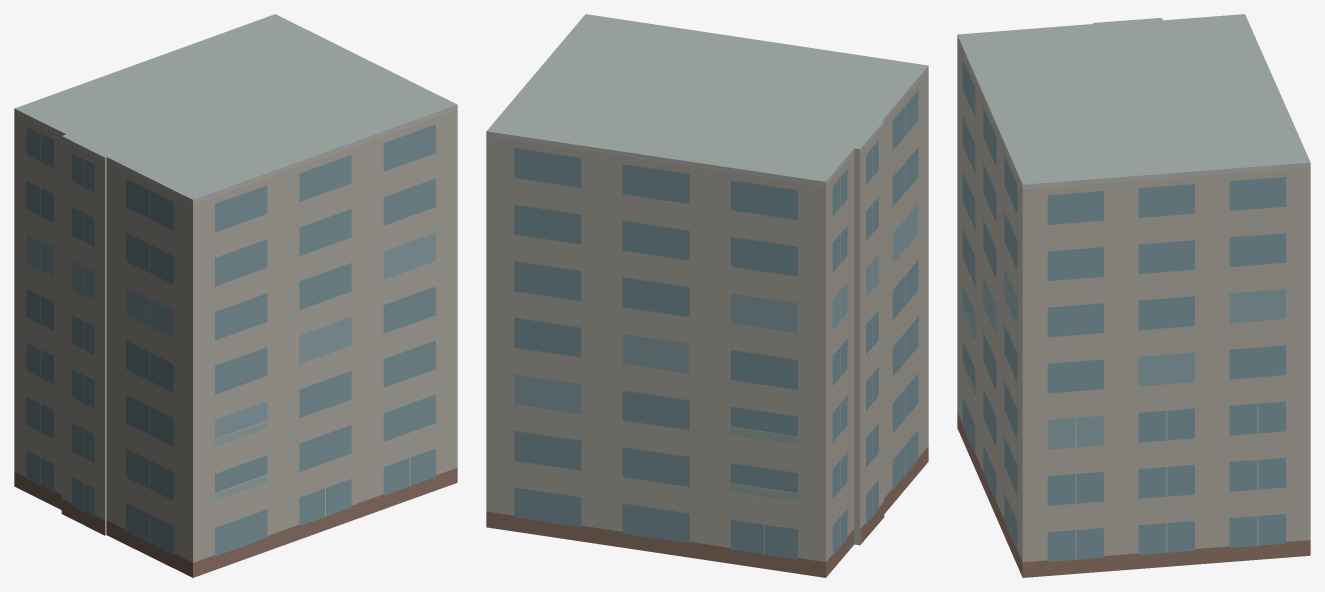
Rendered from survey-upis-32752965.glb.
3 renders of one model, left to right at view 1: azimuth 30°, elevation 25°; view 2: azimuth 150°, elevation 25°; view 3: azimuth 270°, elevation 25°, orthographic. The views are drawn at different scales.
Visible parts, largest first — view 1: survey-upis-32752965.tmp; view 2: survey-upis-32752965.tmp; view 3: survey-upis-32752965.tmp.
Boxes of the visible parts, x1=… form: survey-upis-32752965.tmp: x1=14, y1=14, x2=457, y2=577; survey-upis-32752965.tmp: x1=486, y1=14, x2=928, y2=577; survey-upis-32752965.tmp: x1=957, y1=14, x2=1310, y2=577.
Size of the model in its own units: 18.45 by 19.8 by 16.14.
